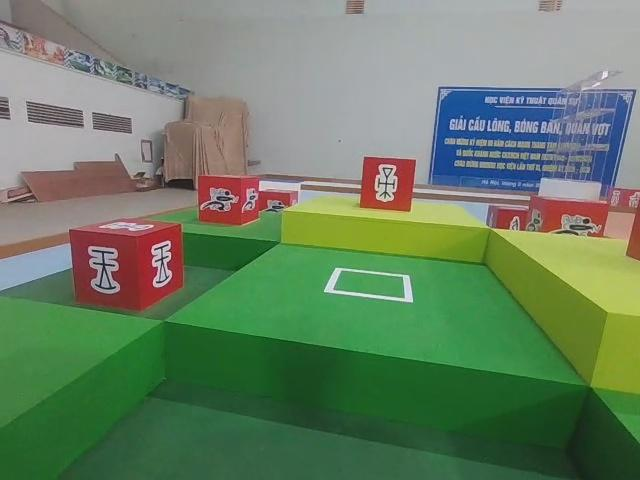R1: (527, 192, 613, 246), (195, 173, 260, 226)
R2 Real: (64, 217, 187, 313), (355, 156, 415, 216)
